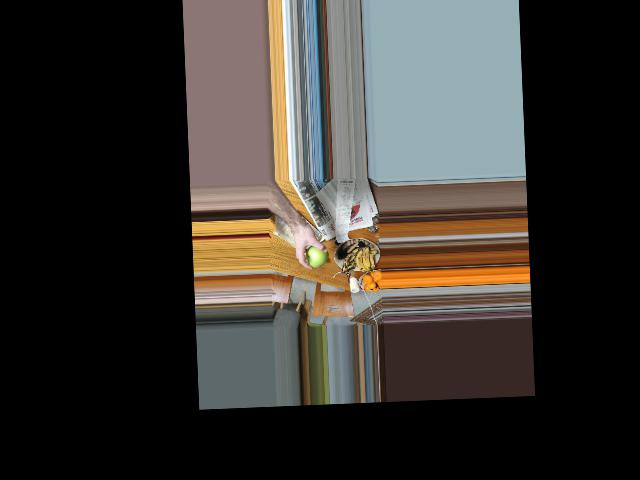apple: (305, 244, 327, 269)
